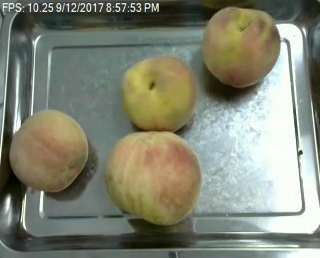Peach: (105, 129, 201, 225), (9, 107, 90, 193), (200, 5, 281, 88), (120, 54, 199, 130)
